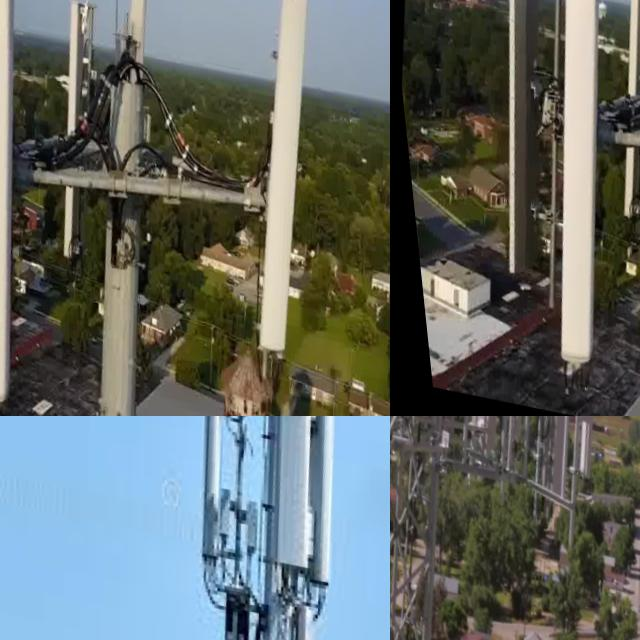GSM Antenna: (492, 0, 640, 370), (438, 0, 587, 285), (22, 0, 110, 256), (246, 0, 305, 358), (241, 416, 329, 570), (286, 416, 361, 583), (166, 416, 245, 558), (592, 0, 640, 229), (509, 416, 606, 513), (476, 416, 554, 503), (447, 416, 531, 478), (554, 416, 620, 480), (114, 0, 155, 72)
